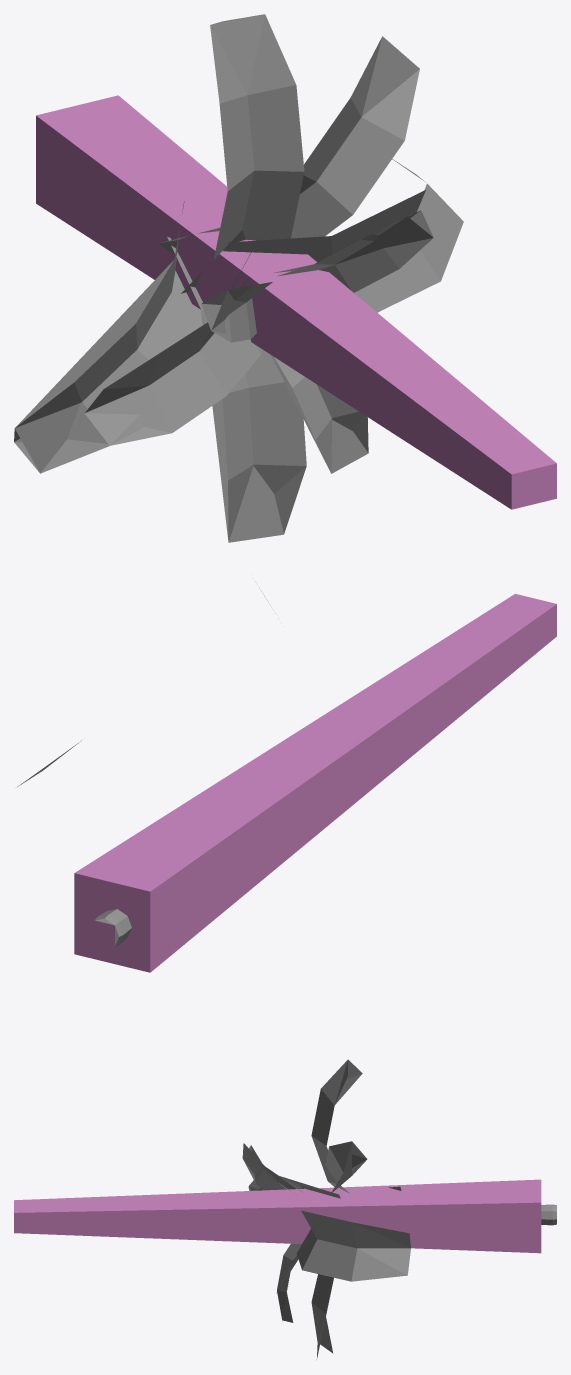
Rendered from trop_QueensPalm01.glb.
3 renders of one model, top to bottom at view 1: azimuth 30°, elevation 25°; view 2: azimuth 150°, elevation 25°; view 3: azimuth 270°, elevation 25°, orthographic. The views are drawn at different scales.
Parts seen in each view (by area): view 1: geometry_0; view 2: geometry_0; view 3: geometry_0.
Part boxes in pixels (bbox=[...]): geometry_0: bbox=[14, 14, 556, 542]; geometry_0: bbox=[17, 588, 556, 972]; geometry_0: bbox=[14, 1059, 556, 1359].
Size of the model in its own units: 16.78 by 17.59 by 30.
